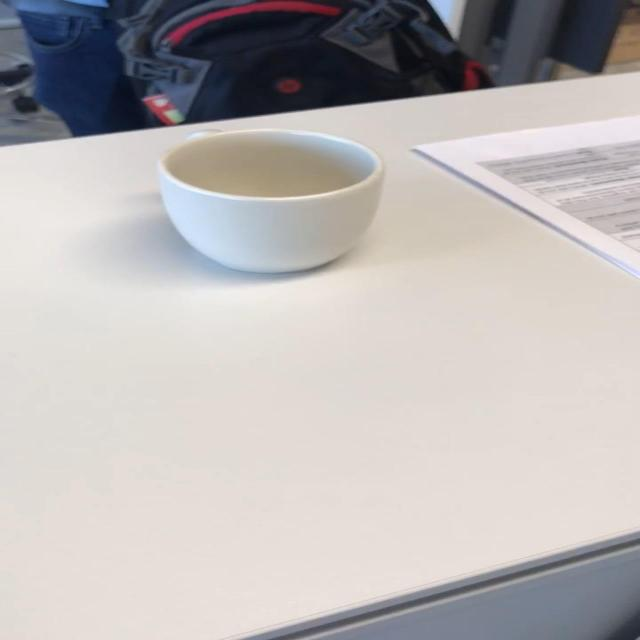cup: (158, 127, 382, 275)
